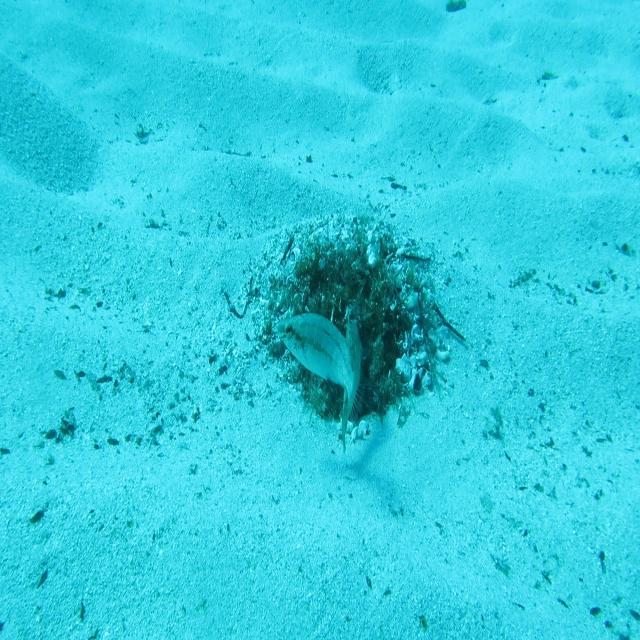FAN: (340, 305, 364, 459)
core_nest: (322, 265, 362, 297)
female: (272, 309, 367, 431)
nest: (241, 202, 455, 456)
vegetation: (445, 0, 465, 17)
